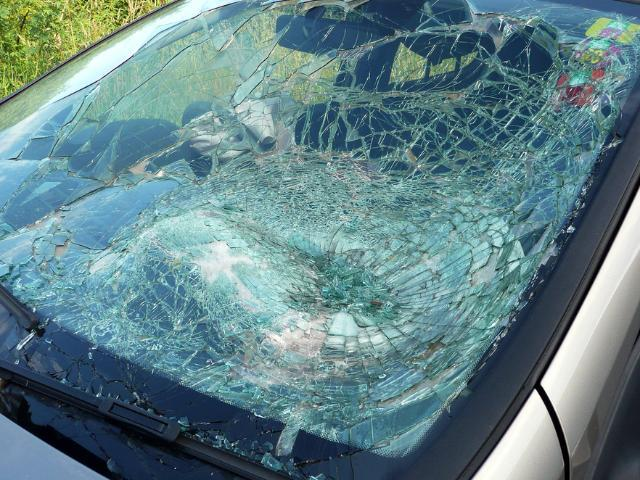Windshield: (0, 0, 537, 459)
